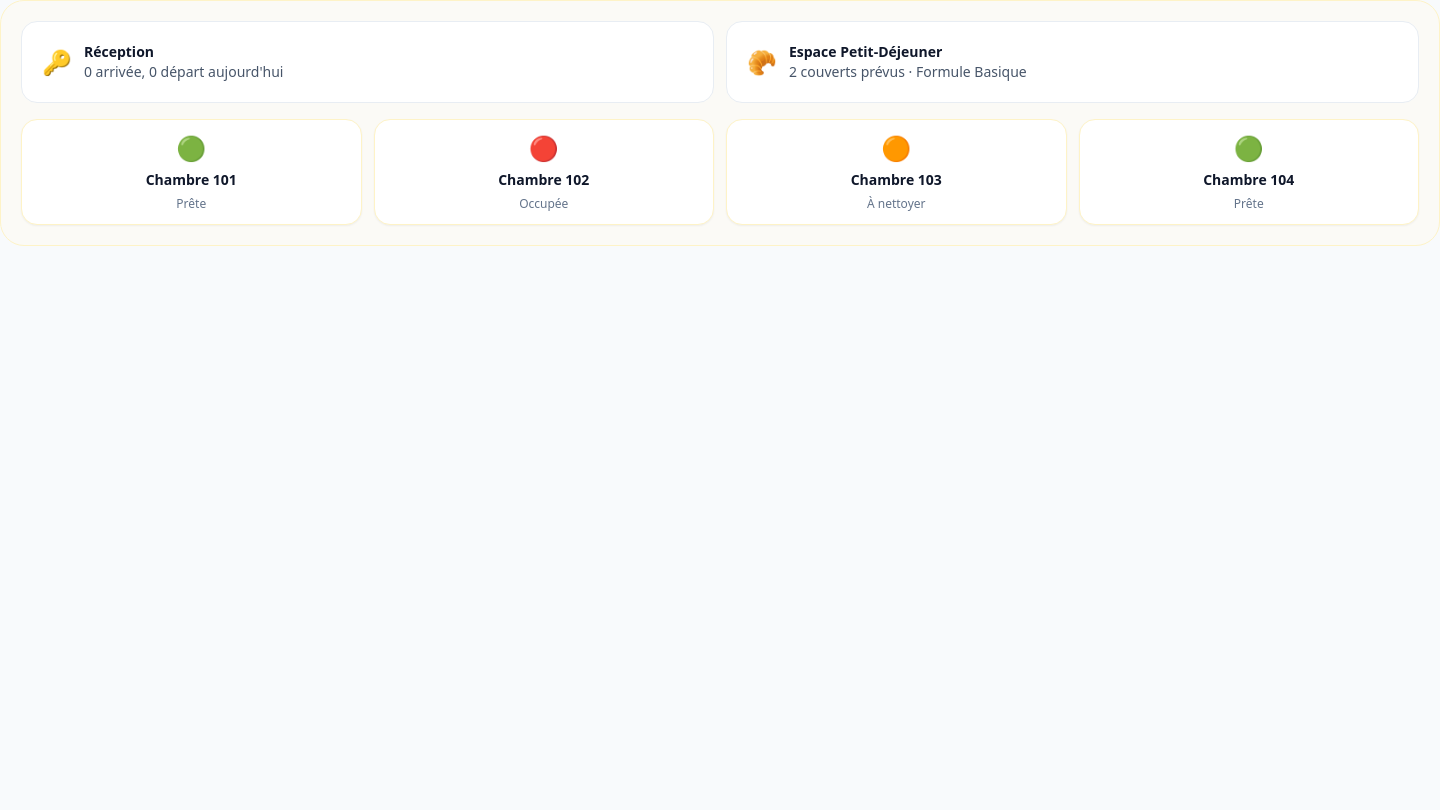
it: clicking a room opens a modal with its status and, if occupied, the guest's name
What coordinates should you click on to do the following:
click the button with test id "schematic-starter-room-102"
I would click on:
 (544, 172)
Its box is [374,119,714,225].
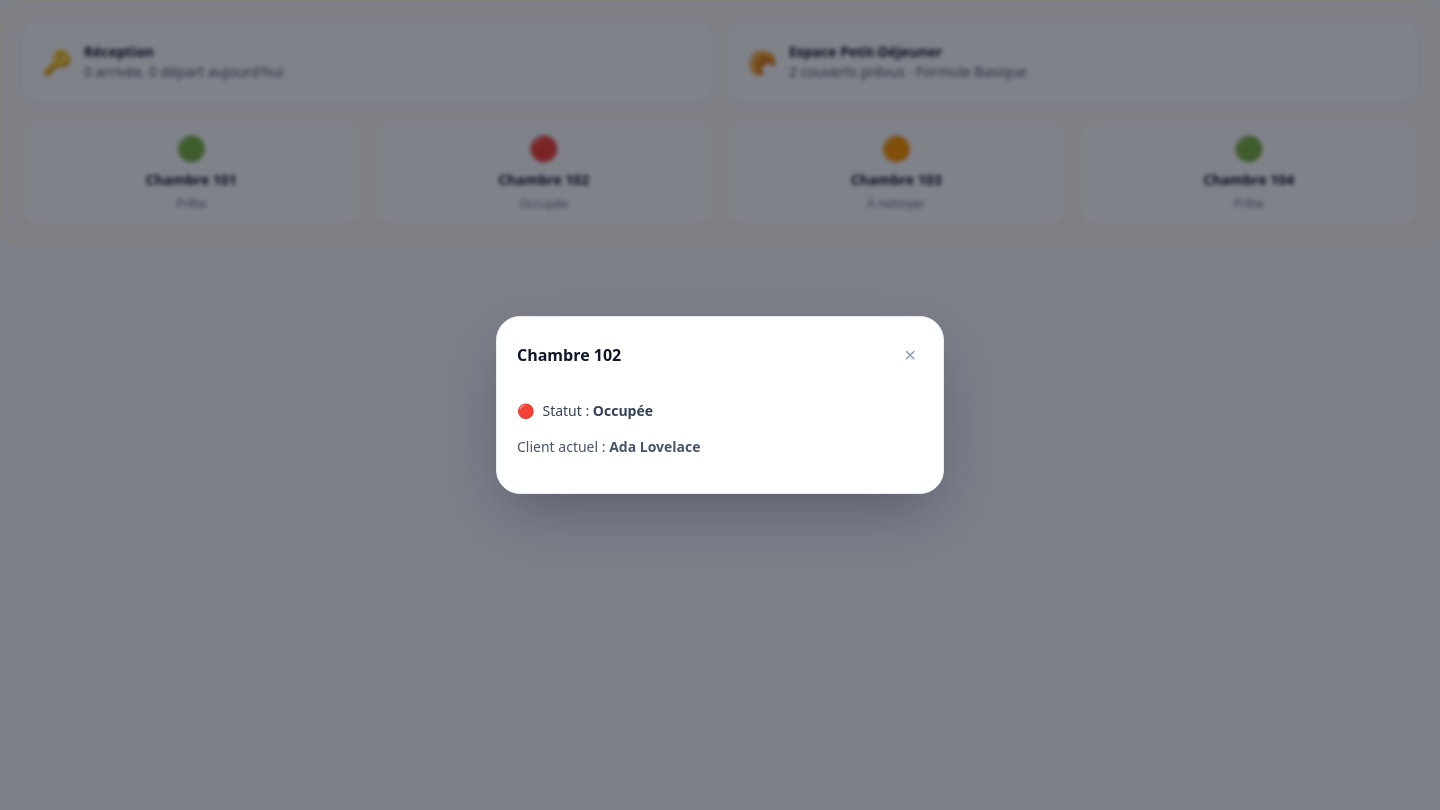
Expected: the text "Ada Lovelace" is shown, [609,437,700,456]
